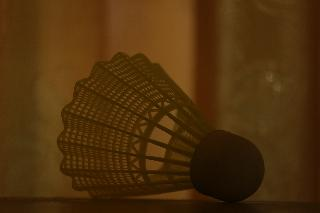shuttlecock: (56, 51, 264, 202)
